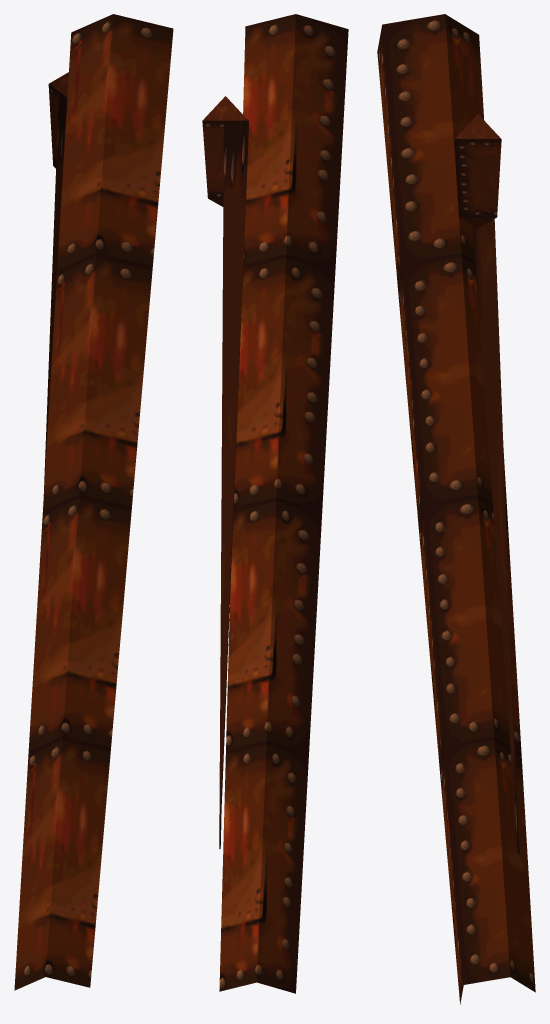
File: Schiff_Schornstein_1273.glb
The picture shows the model from 3 angles, left to right: view 1: azimuth 90°, elevation 25°; view 2: azimuth 150°, elevation 25°; view 3: azimuth 270°, elevation 25°; orthographic projection. The views are drawn at different scales.
Parts seen in each view (by area): view 1: pCylinderShape6, pCylinderShape17, pCylinderShape18; view 2: pCylinderShape6, pCylinderShape17, pCylinderShape18; view 3: pCylinderShape6, pCylinderShape17, pCylinderShape18.
Boxes of the visible parts, <box> form: pCylinderShape6: <box>14,14,173,990</box>; pCylinderShape17: <box>43,94,67,494</box>; pCylinderShape18: <box>48,72,68,168</box>; pCylinderShape6: <box>219,14,348,993</box>; pCylinderShape17: <box>219,122,248,848</box>; pCylinderShape18: <box>202,96,248,206</box>; pCylinderShape6: <box>377,14,535,1004</box>; pCylinderShape17: <box>472,219,519,853</box>; pCylinderShape18: <box>454,114,501,227</box>.
Size of the model in its own units: 0.433 by 3.89 by 0.5804.
3 materials, 3 textured.
